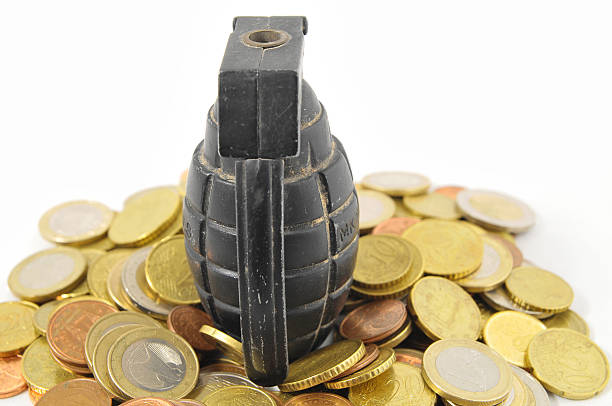e1: (184, 16, 358, 384)
